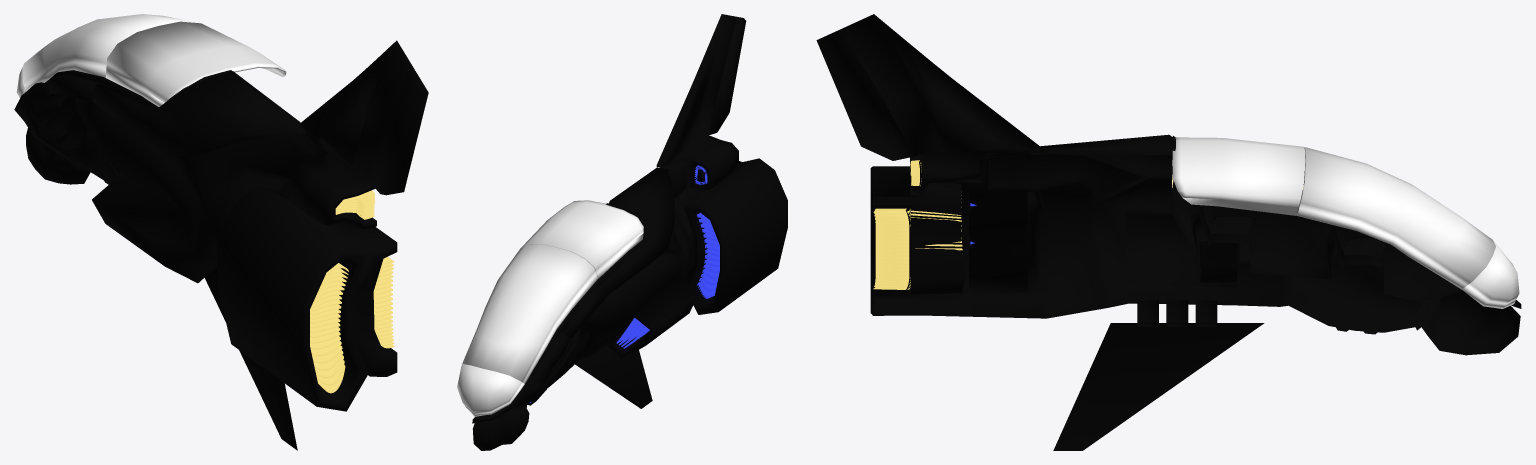
The model's file is Aircraft.glb.
3 views of the same model, side by side, from view 1: azimuth 30°, elevation 25°; view 2: azimuth 150°, elevation 25°; view 3: azimuth 270°, elevation 25° (orthographic). The views are drawn at different scales.
Visible parts, largest first — view 1: Cube.001, Cube.000, Cube.002; view 2: Cube.001, Cube.000, Cube.002; view 3: Cube.001, Cube.000, Cube.002.
Part boxes in pixels (x1,y1,x2,y2): Cube.001: [14, 40, 428, 450]; Cube.000: [16, 14, 286, 106]; Cube.002: [310, 190, 394, 393]; Cube.001: [472, 14, 787, 450]; Cube.000: [457, 200, 643, 416]; Cube.002: [530, 165, 719, 402]; Cube.001: [816, 14, 1521, 450]; Cube.000: [1172, 137, 1519, 308]; Cube.002: [873, 160, 1200, 291].
Size of what is drawn, in the model's own units: 1.54 by 4.21 by 6.16.
